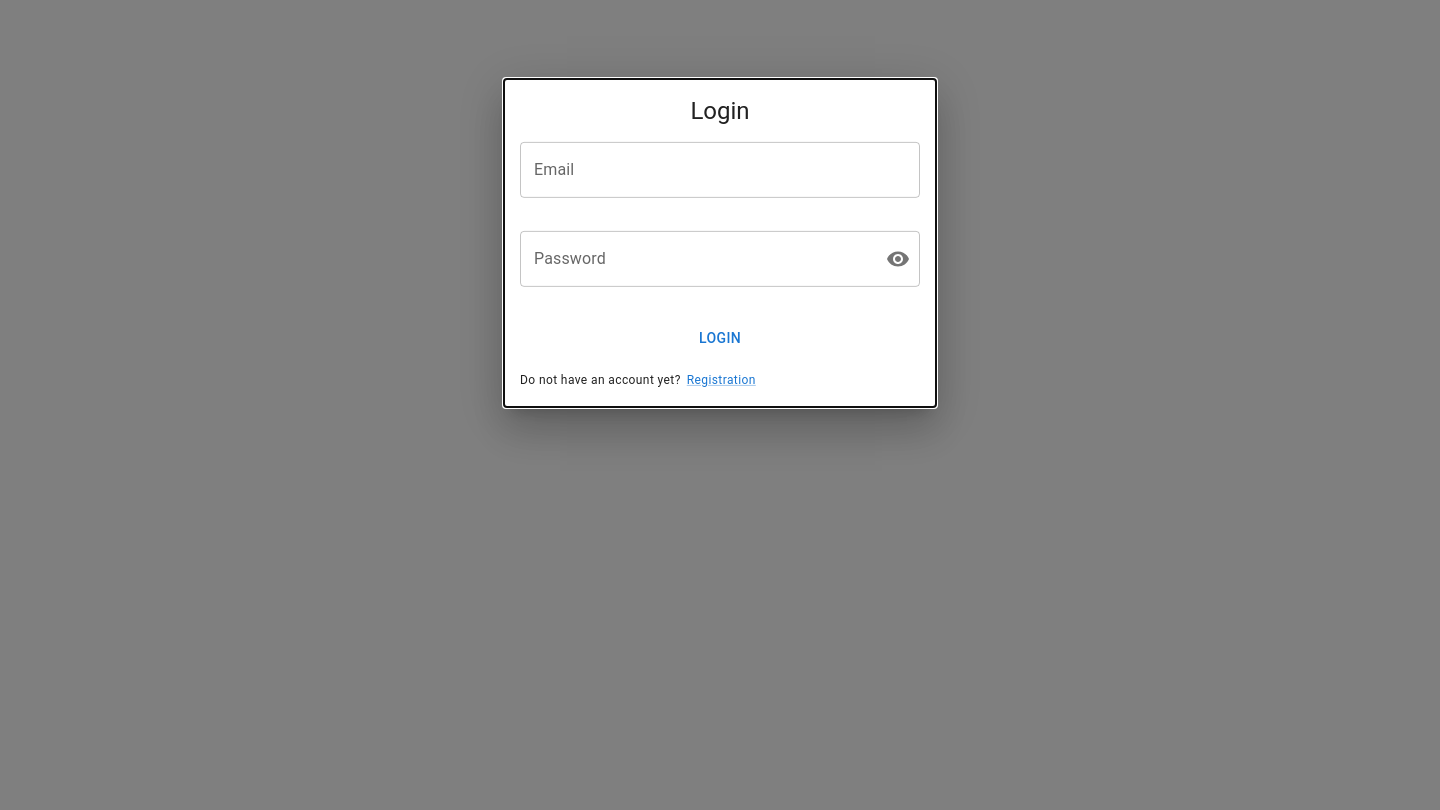
Test: AuthModal › Incorrect email and password submit
Type "asd" into the field labelled "Email" at {"x": 720, "y": 170}, box [520,142,920,198]
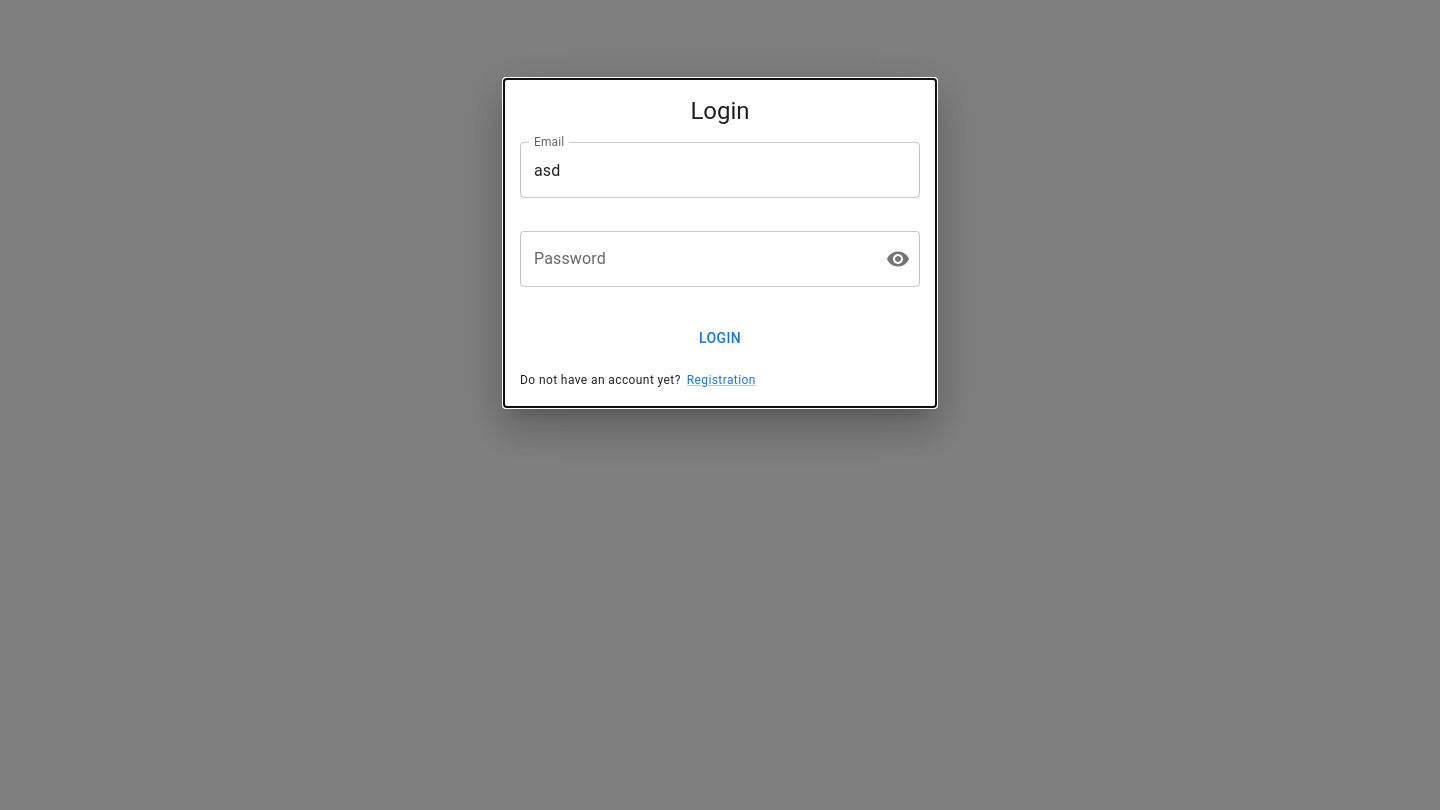
Type "asd" into the password field labelled "Password" at {"x": 695, "y": 259}, box [520,231,870,287]
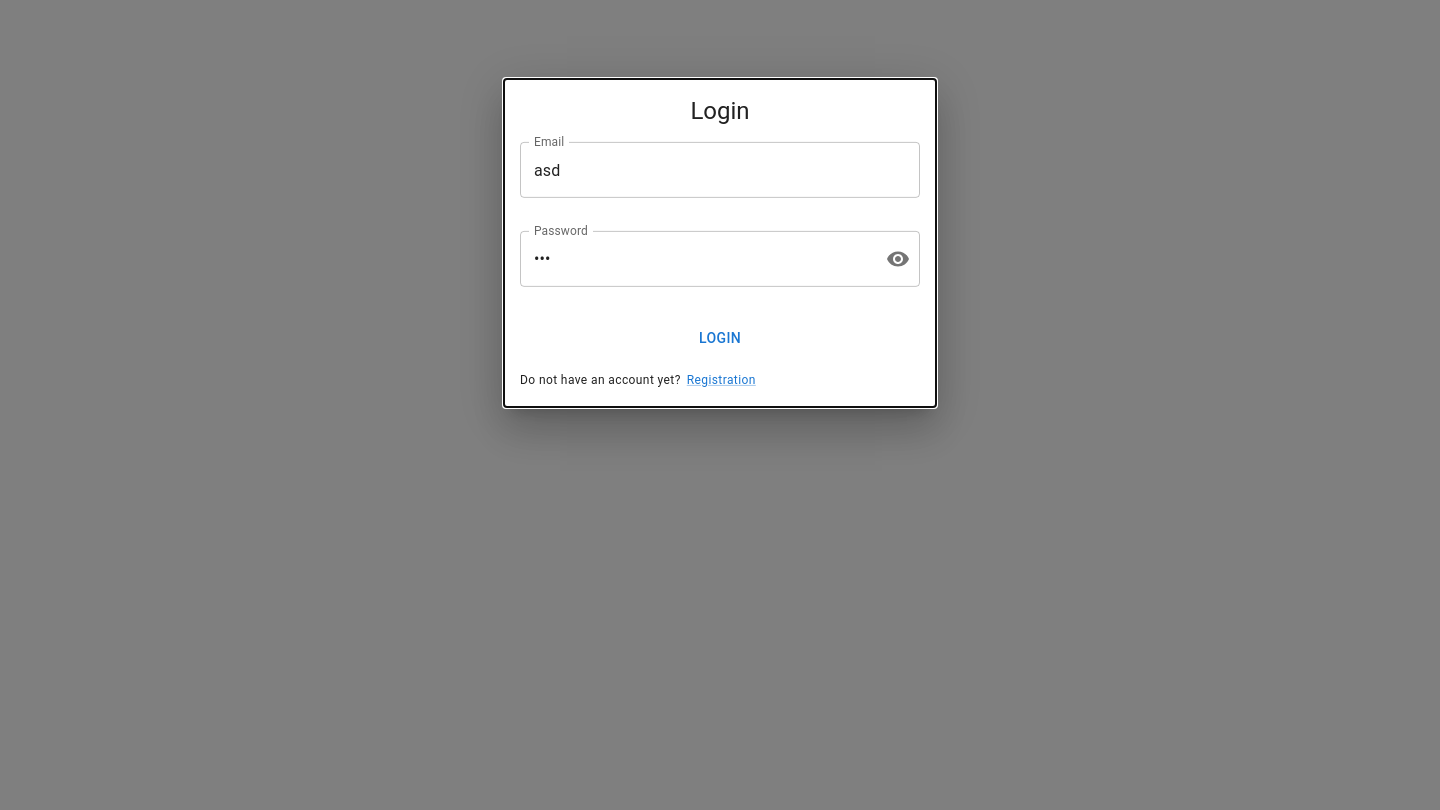
Click the button with test id "AuthModal-btn-login" at {"x": 720, "y": 338}, box [520,320,920,356]
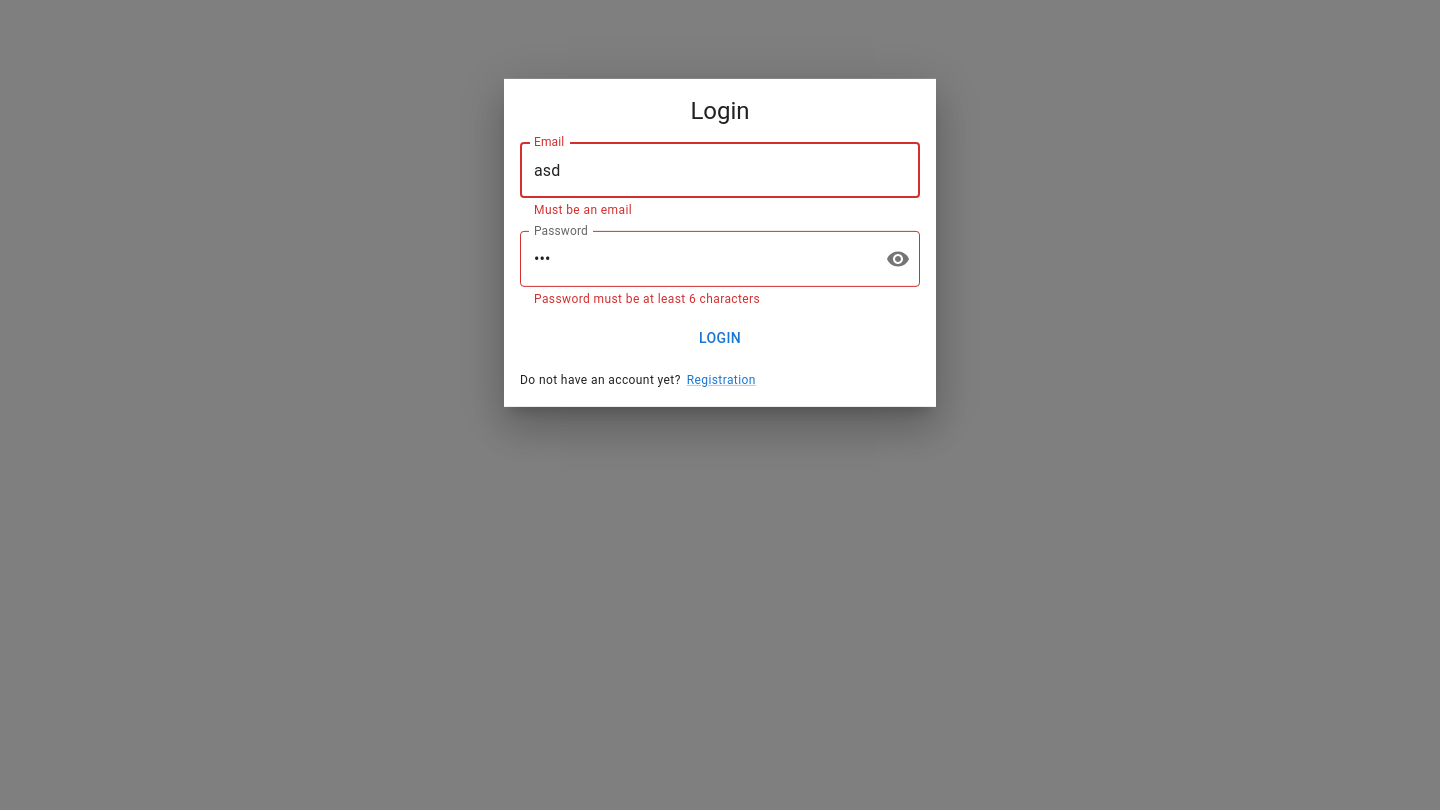
Result: the text "Must be an email" is shown at [534,203,632,217]
Result: the text "Password must be at least 6 characters" is shown at [534,292,760,306]
